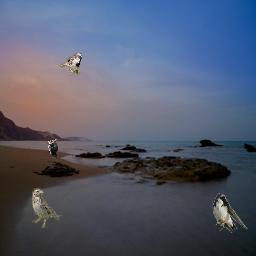Sparrow: (32, 188, 63, 228), (60, 53, 82, 75)
Swallow: (212, 193, 248, 233)
Woodpecker: (46, 139, 58, 161)
